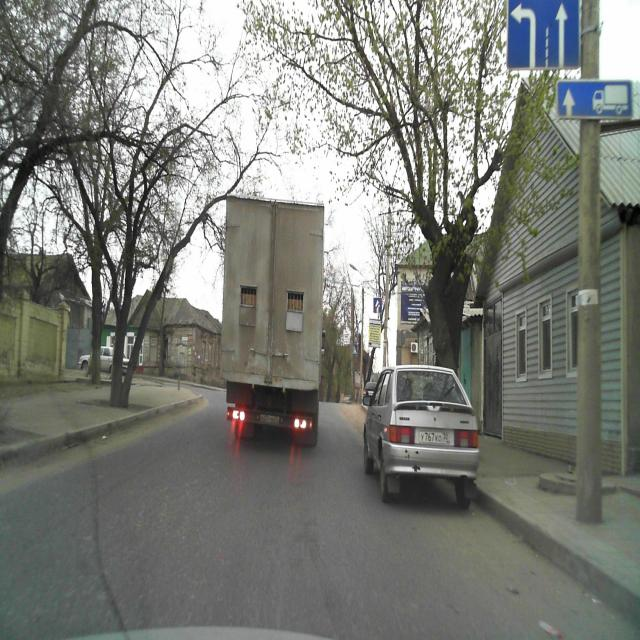road sign: (507, 0, 581, 70), (557, 79, 633, 120)
